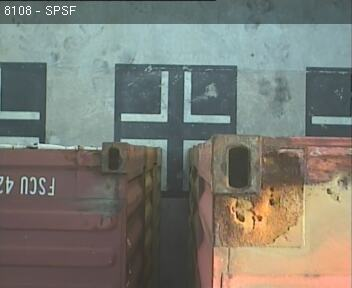groundmarker_1: (120, 71, 230, 123), (122, 140, 203, 190)
